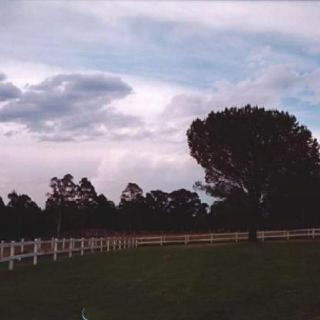Cirrostratus: (0, 0, 194, 181)
